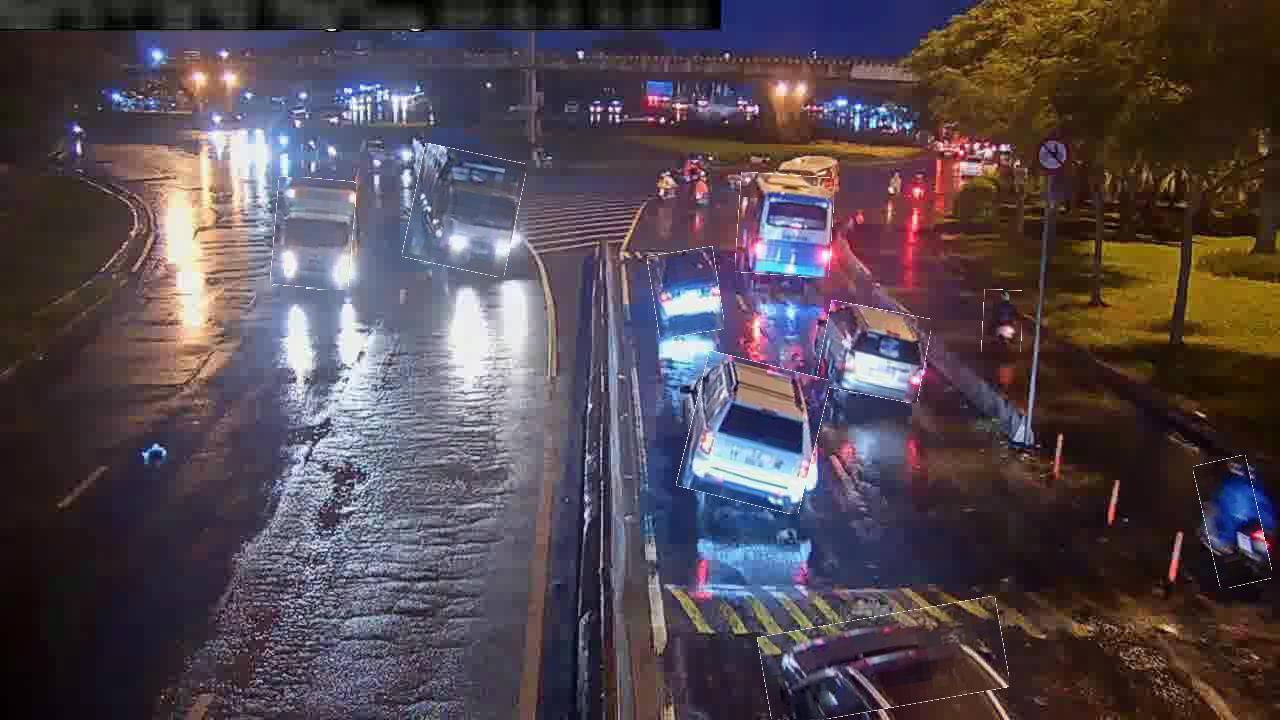14: (736, 174, 834, 277)
8: (408, 148, 522, 274), (273, 178, 355, 290)
container: (760, 606, 1007, 718), (684, 357, 823, 509), (819, 304, 929, 400), (650, 249, 722, 336)
motorbike: (1200, 457, 1267, 587), (982, 290, 1023, 353)
